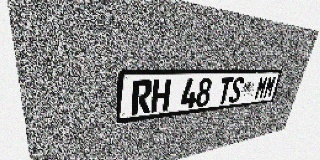4: (180, 78, 199, 109)
8: (195, 78, 213, 107)
H: (150, 79, 171, 113)
M: (254, 76, 269, 100), (262, 76, 277, 99)
R: (131, 80, 153, 115)
S: (228, 77, 245, 103)
T: (216, 77, 234, 104)
